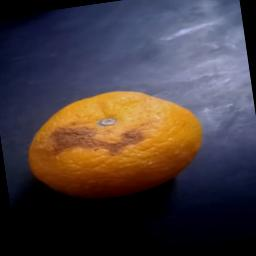Orange Unripe: (18, 78, 214, 208)
